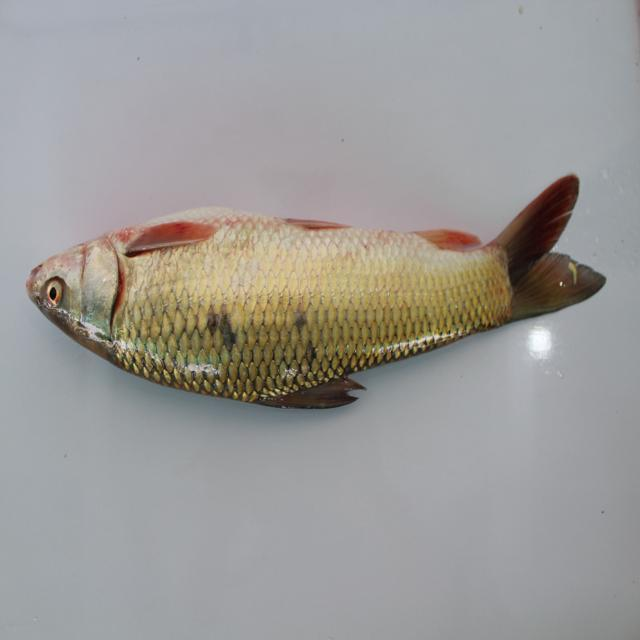Mori: (24, 181, 607, 394)
